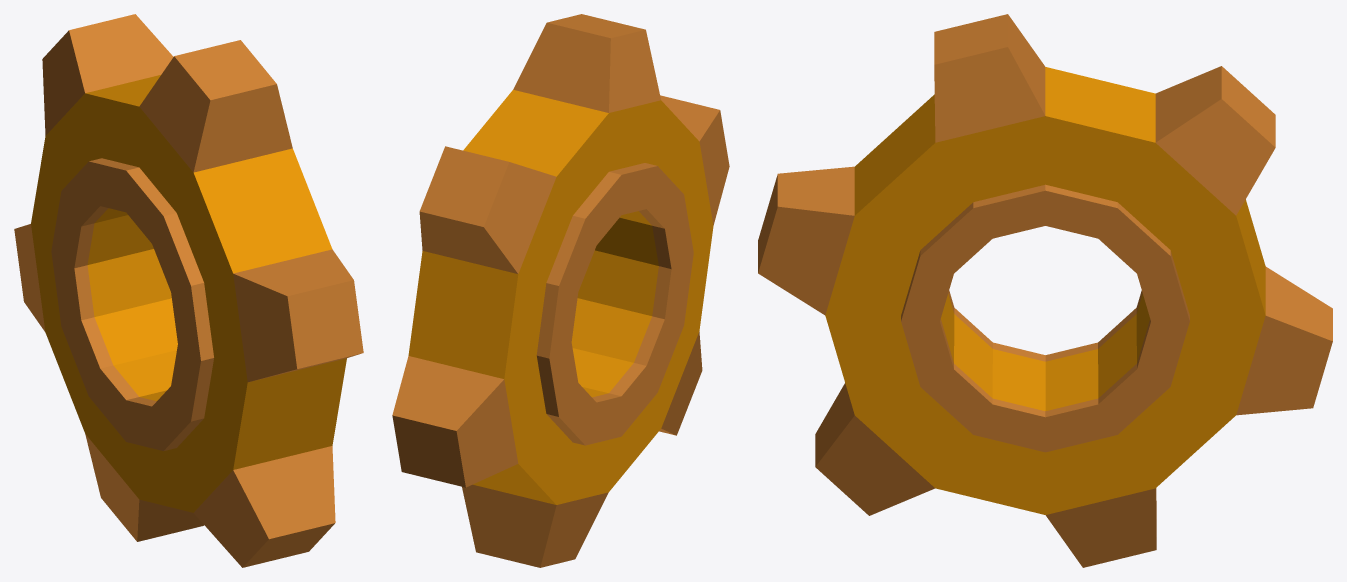
File: Item_Cog_Fantasy.fbx
3 views of the same model, side by side, from view 1: azimuth 30°, elevation 25°; view 2: azimuth 150°, elevation 25°; view 3: azimuth 270°, elevation 25° (orthographic). The views are drawn at different scales.
Visible parts, largest first — view 1: Item Cog Fantasy; view 2: Item Cog Fantasy; view 3: Item Cog Fantasy.
Part boxes in pixels (left/top/right/bottom): Item Cog Fantasy: left=14, top=14, right=363, bottom=567; Item Cog Fantasy: left=392, top=14, right=729, bottom=567; Item Cog Fantasy: left=758, top=14, right=1332, bottom=567.
Size of the model in its own units: 66.33 by 261 by 261.
